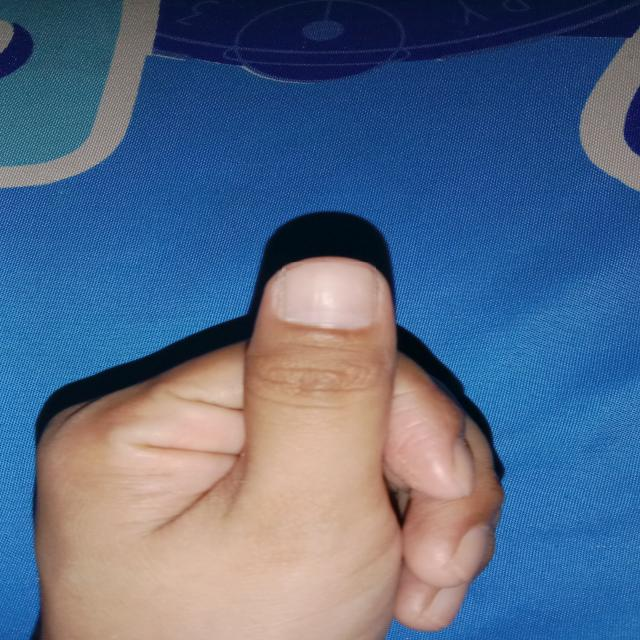sehat: (283, 263, 376, 327)
